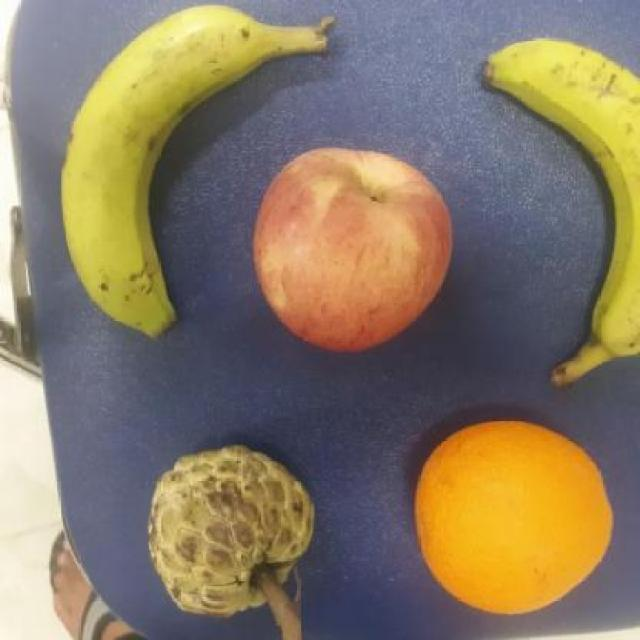apple: (235, 140, 459, 362)
banana: (58, 0, 264, 343), (462, 33, 640, 370)
oren: (407, 408, 616, 615)
sugar apple: (140, 442, 322, 620)
